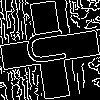U: (25, 25, 76, 68)
